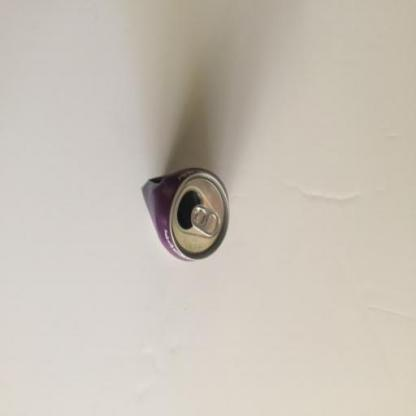METAL: (140, 168, 230, 259)
